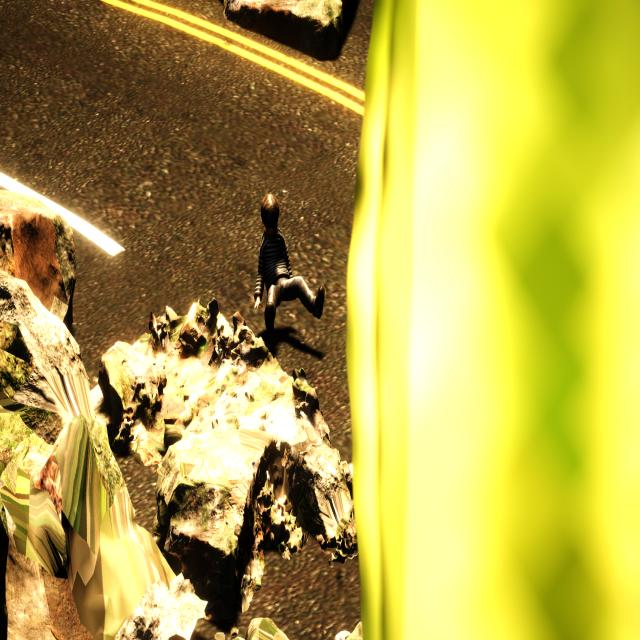Human: (246, 186, 326, 342)
